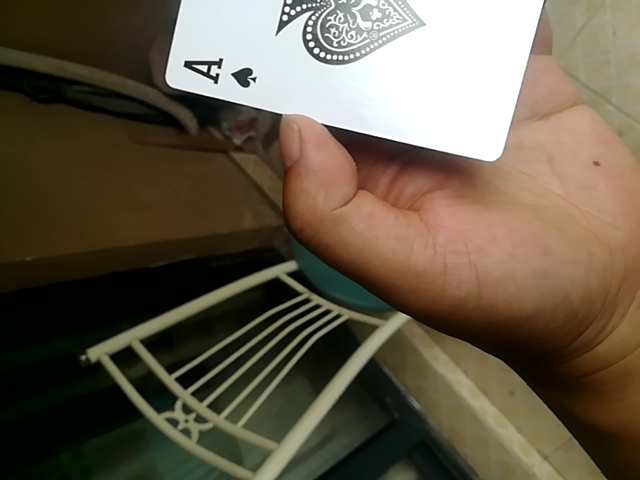ht a: (164, 3, 553, 163)
